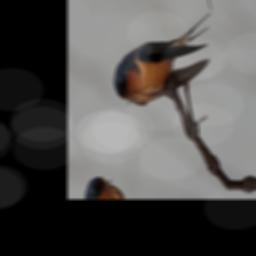Swallow: (108, 0, 219, 139)
